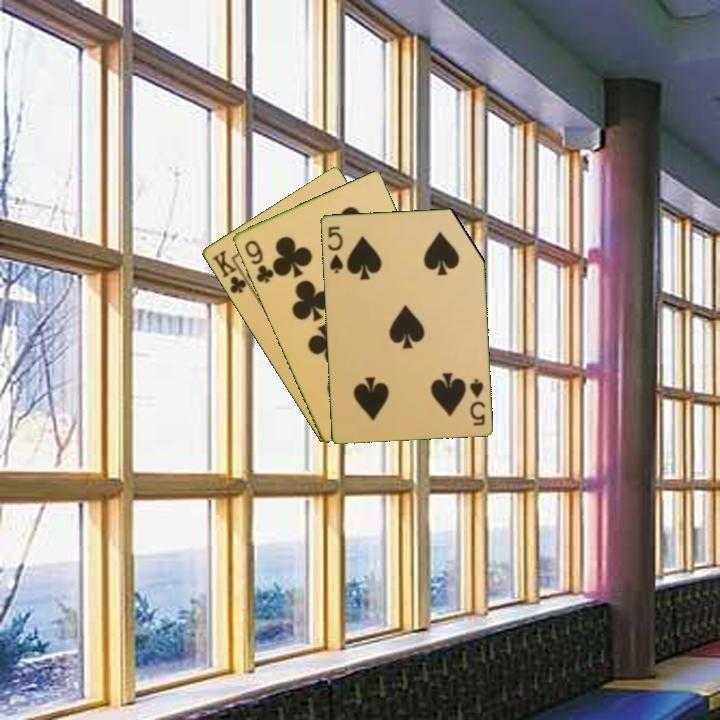5s: (466, 375, 488, 428), (324, 222, 345, 276)
9c: (240, 236, 276, 286)
Kc: (208, 246, 254, 296)
